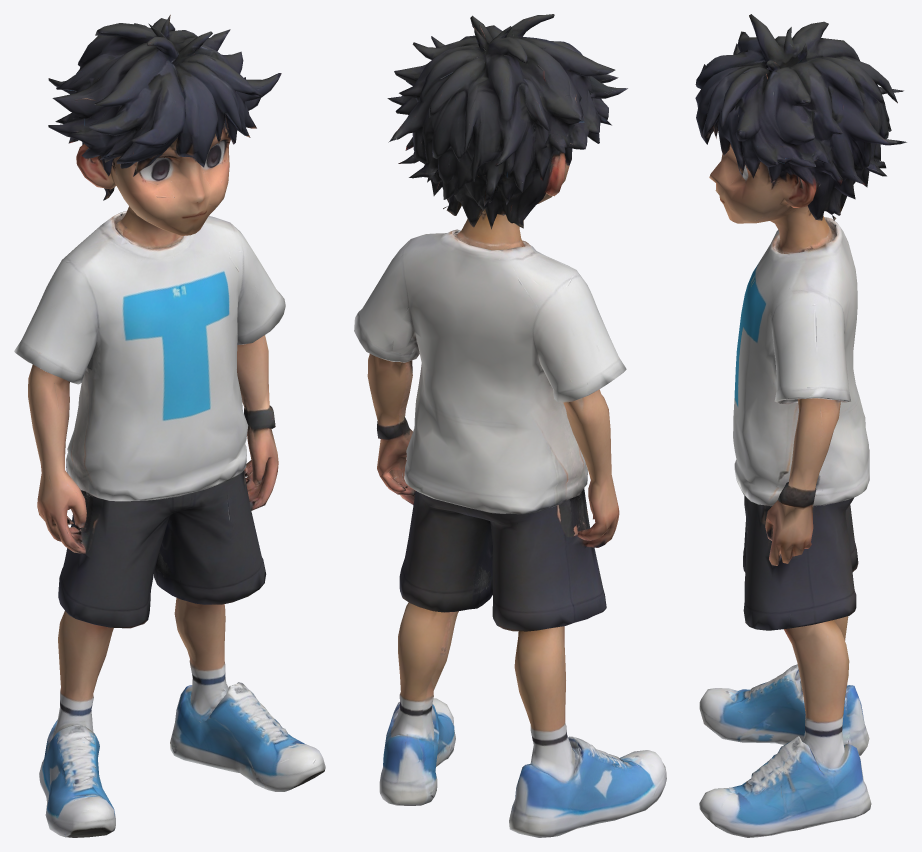
The model's file is premium_boy_character.glb.
The picture shows the model from 3 angles, left to right: view 1: azimuth 30°, elevation 25°; view 2: azimuth 150°, elevation 25°; view 3: azimuth 270°, elevation 25°; orthographic projection. The views are drawn at different scales.
Parts seen in each view (by area): view 1: Object_4; view 2: Object_4; view 3: Object_4.
Boxes of the visible parts, x1,y1,x2,y2 form: Object_4: (14,14,325,837); Object_4: (354,14,666,837); Object_4: (695,14,906,837).
Bounding box in the file's own units: 0.7094 × 2 × 0.5123.
1 material, 1 textured.
